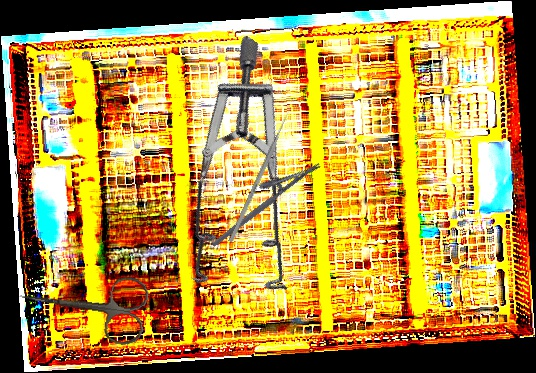Iris Scissors: (14, 260, 151, 349)
Needle Holder: (200, 148, 322, 248)
Pusher: (228, 106, 293, 243)
Speculum: (109, 33, 396, 329)
